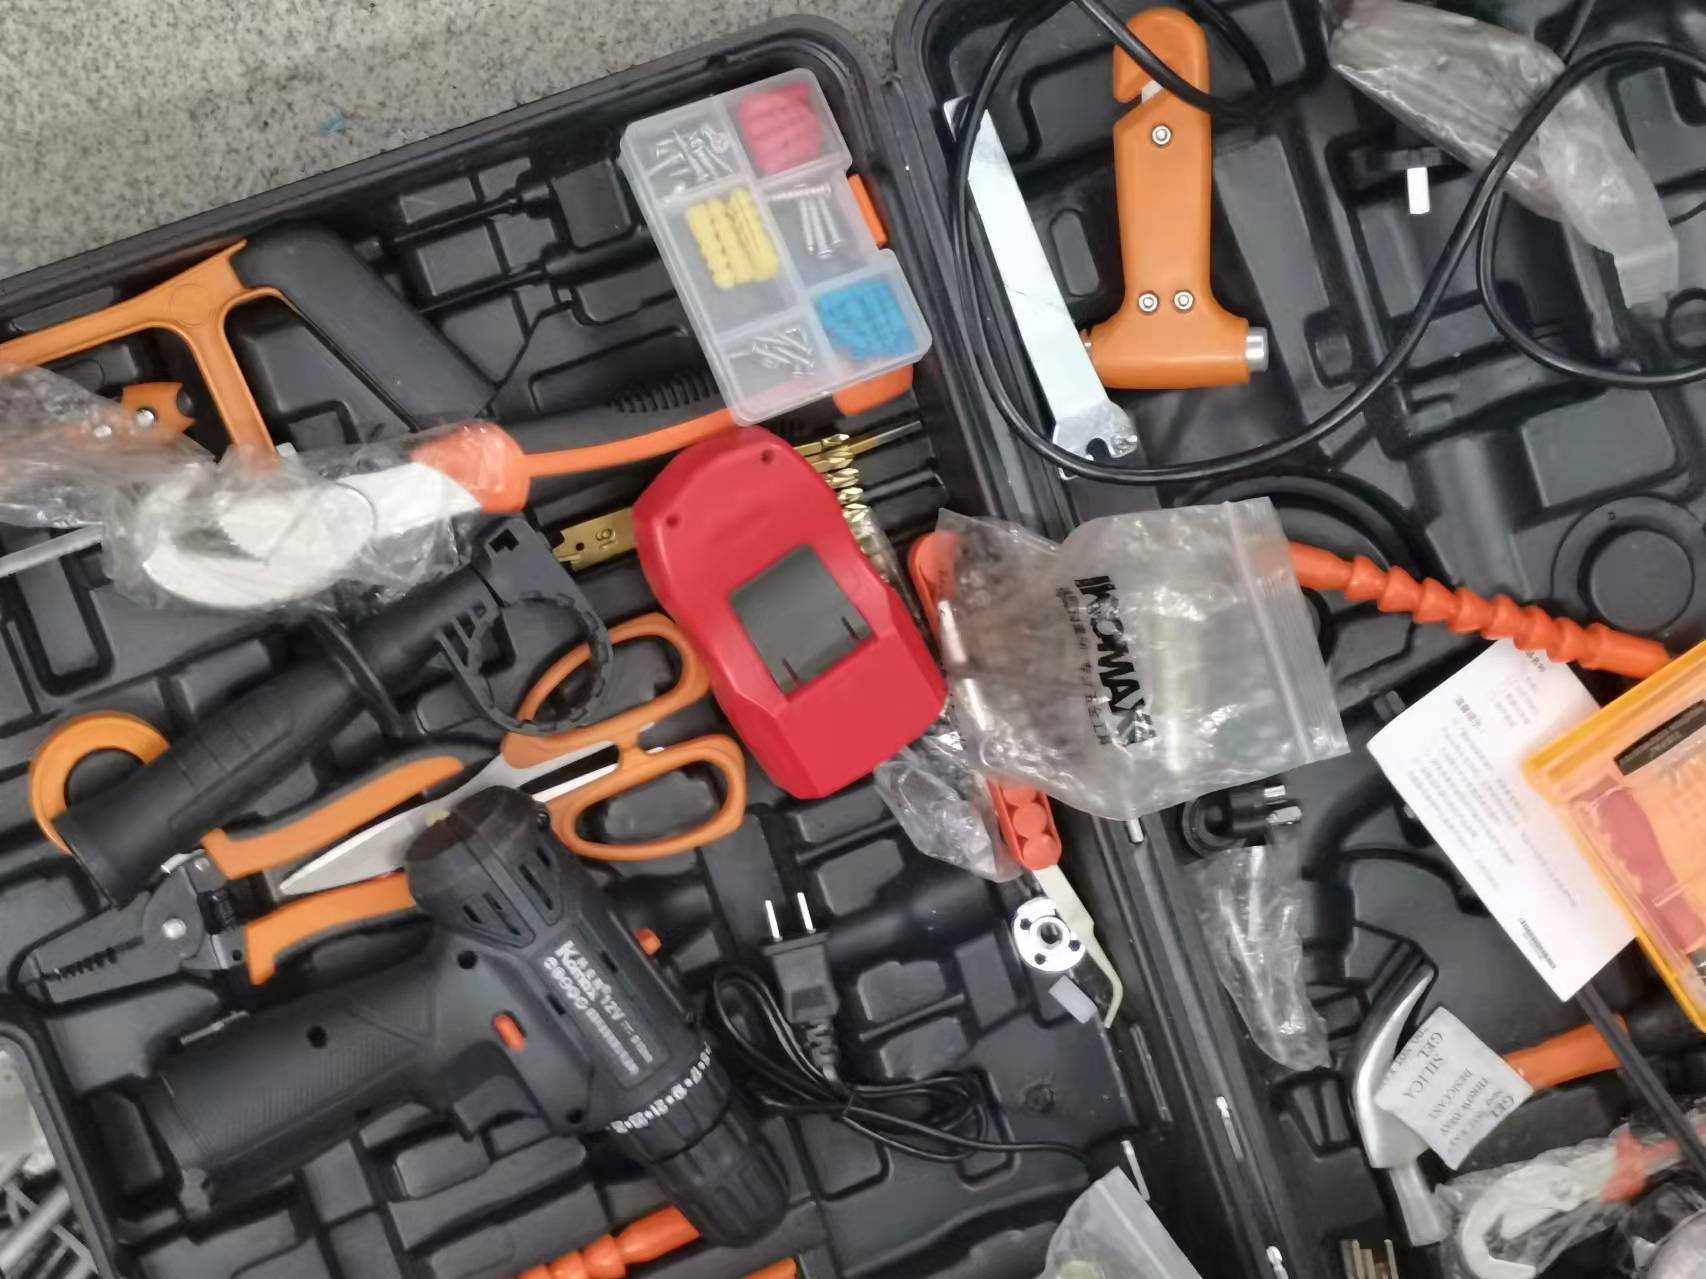Multimeter: (621, 418, 948, 806)
Screw holes: (664, 512, 685, 529), (758, 451, 779, 468)
